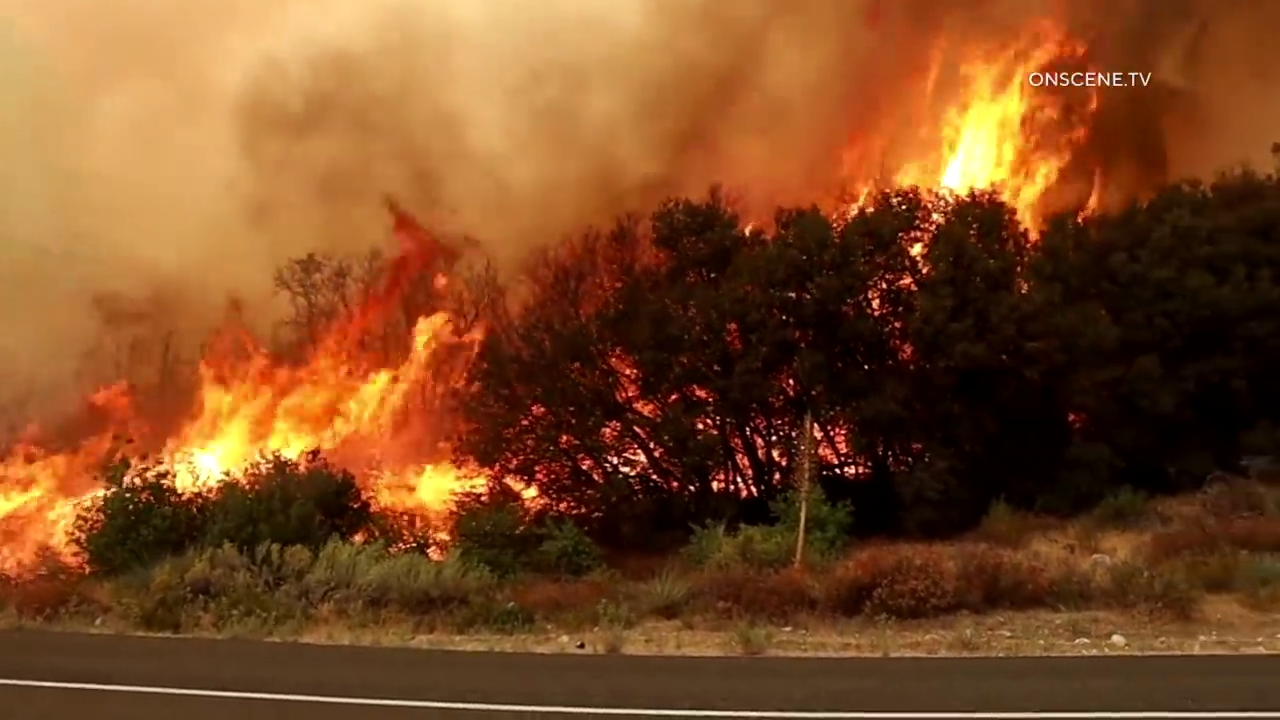forest_fire: (157, 304, 485, 510), (890, 40, 1081, 225), (0, 426, 125, 568)
